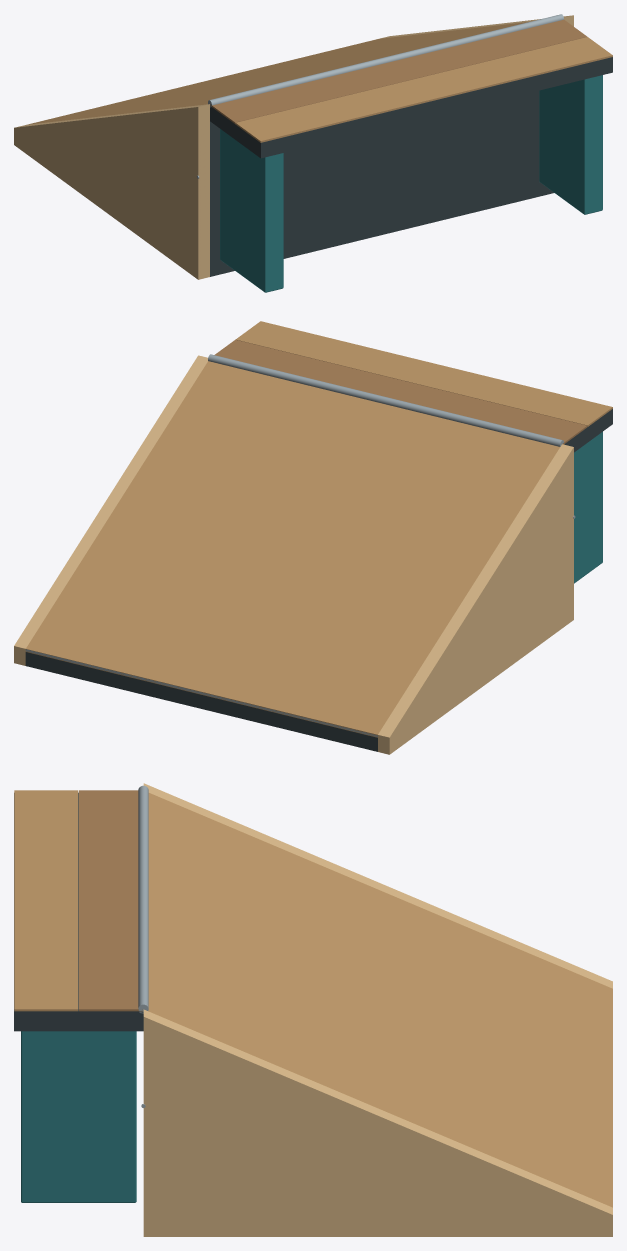
The model's file is skate_kicker.glb.
3 views of the same model, one above another, from view 1: azimuth 30°, elevation 25°; view 2: azimuth 150°, elevation 25°; view 3: azimuth 270°, elevation 25° (orthographic). The views are drawn at different scales.
Visible parts, largest first — view 1: VISUAL__kicker_structure, VISUAL__kicker_sides_left, VISUAL__kicker_platform_plank.001, VISUAL__kicker_platform_support, VISUAL__kicker_platform_plank, VISUAL__kicker_platform_support.001, VISUAL__kicker_ride, VISUAL__kicker_platform_solid, VISUAL__kicker_lip, VISUAL__kicker_sides_right; view 2: VISUAL__kicker_ride, VISUAL__kicker_sides_left, VISUAL__kicker_platform_plank.001, VISUAL__kicker_platform_plank, VISUAL__kicker_structure, VISUAL__kicker_sides_right, VISUAL__kicker_platform_support, VISUAL__kicker_lip, VISUAL__kicker_entry, VISUAL__kicker_platform_solid; view 3: VISUAL__kicker_ride, VISUAL__kicker_sides_right, VISUAL__kicker_platform_support.001, VISUAL__kicker_platform_plank.001, VISUAL__kicker_platform_plank, VISUAL__kicker_sides_left, VISUAL__kicker_platform_solid, VISUAL__kicker_lip.
Boxes of the visible parts, x1,y1,x2,y2 form: VISUAL__kicker_structure: (210,90,553,276); VISUAL__kicker_sides_left: (14,104,209,279); VISUAL__kicker_platform_plank.001: (235,37,612,142); VISUAL__kicker_platform_support: (220,129,283,292); VISUAL__kicker_platform_plank: (210,19,587,124); VISUAL__kicker_platform_support.001: (539,75,602,214); VISUAL__kicker_ride: (26,22,528,124); VISUAL__kicker_platform_solid: (210,57,612,158); VISUAL__kicker_lip: (208,14,563,107); VISUAL__kicker_sides_right: (379,15,573,38); VISUAL__kicker_ride: (25,361,559,737); VISUAL__kicker_sides_left: (378,444,573,754); VISUAL__kicker_platform_plank.001: (235,321,612,426); VISUAL__kicker_platform_plank: (214,339,587,444); VISUAL__kicker_structure: (25,652,377,751); VISUAL__kicker_sides_right: (14,355,207,665); VISUAL__kicker_platform_support: (574,432,602,583); VISUAL__kicker_lip: (208,354,563,446); VISUAL__kicker_entry: (25,649,377,737); VISUAL__kicker_platform_solid: (564,409,612,452); VISUAL__kicker_ride: (148,793,612,1207); VISUAL__kicker_sides_right: (143,1009,612,1236); VISUAL__kicker_platform_support.001: (21,1031,136,1202); VISUAL__kicker_platform_plank.001: (14,790,78,1011); VISUAL__kicker_platform_plank: (79,790,142,1011); VISUAL__kicker_sides_left: (143,783,612,988); VISUAL__kicker_platform_solid: (14,792,143,1031); VISUAL__kicker_lip: (138,785,148,1013).
Size of the model in its own units: 3.21 by 1.44 by 3.47.
